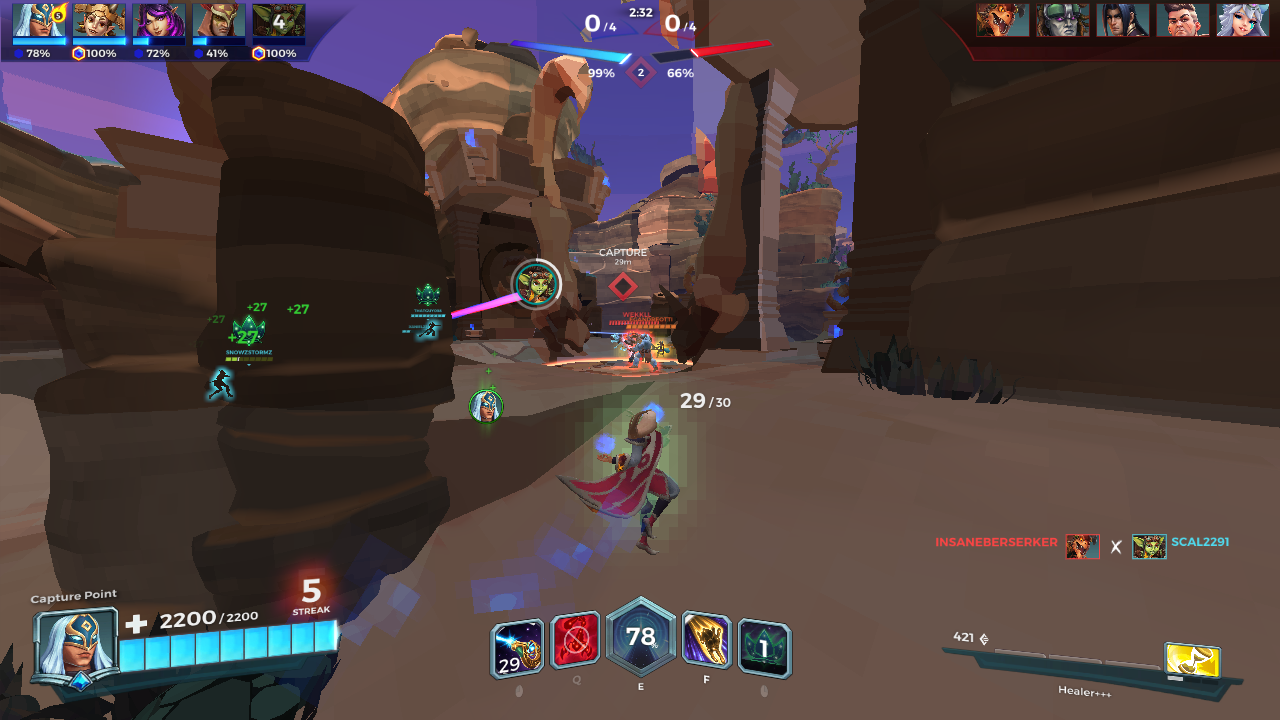model: (620, 330, 661, 375), (655, 338, 672, 360)
